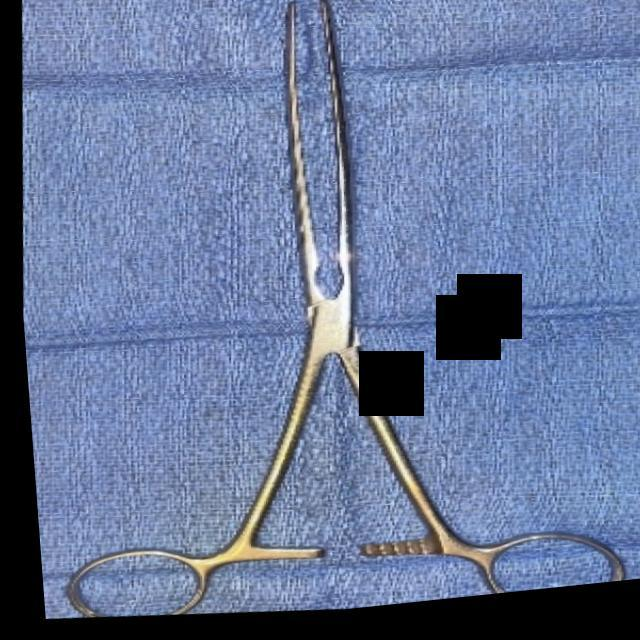Doyel Instestinal Forceps: (13, 0, 640, 639)
